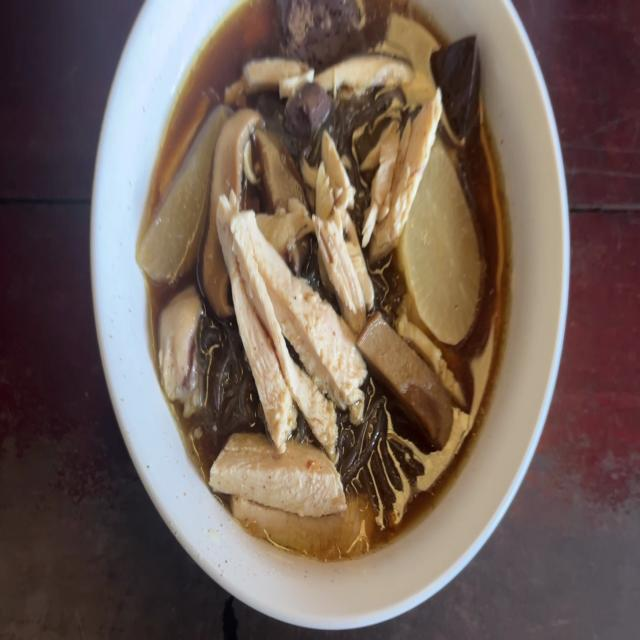noodle: (278, 0, 365, 54), (438, 32, 484, 133), (284, 85, 324, 134)
